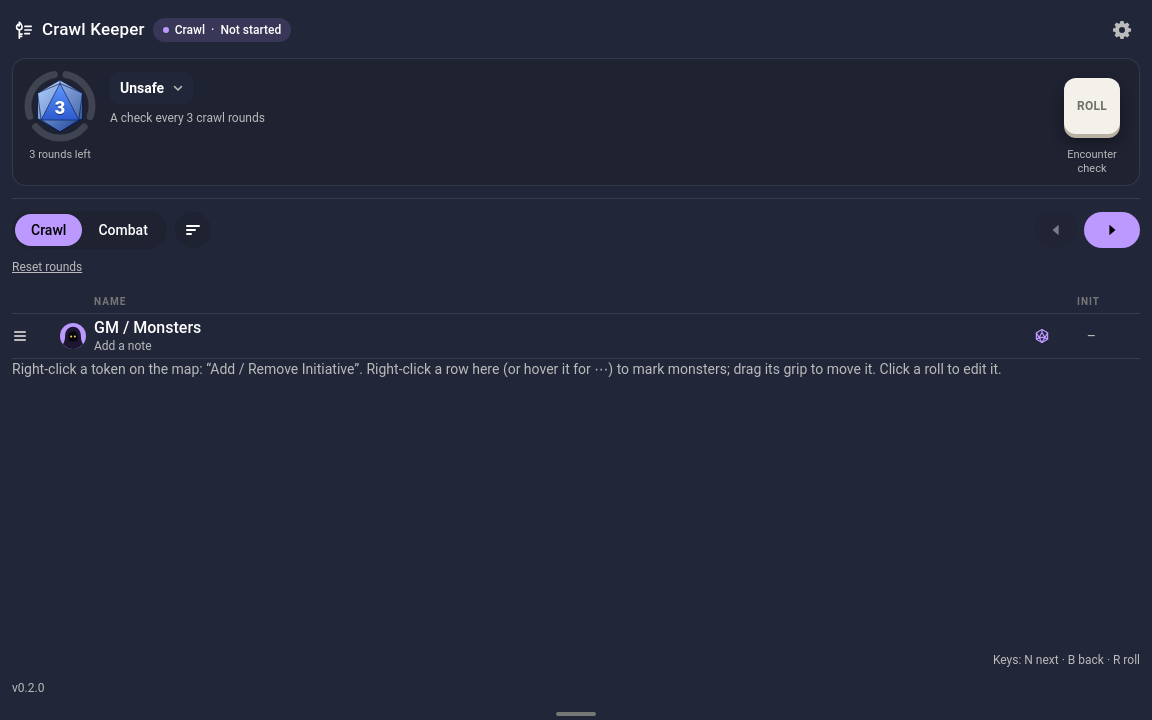
Test: Tracker (GM) › the modifier box shows what's stored, even when nothing changed
Click the button named "Roll initiative for GM / Monsters" at (1042, 336), box left=1028, top=322, right=1056, bottom=350
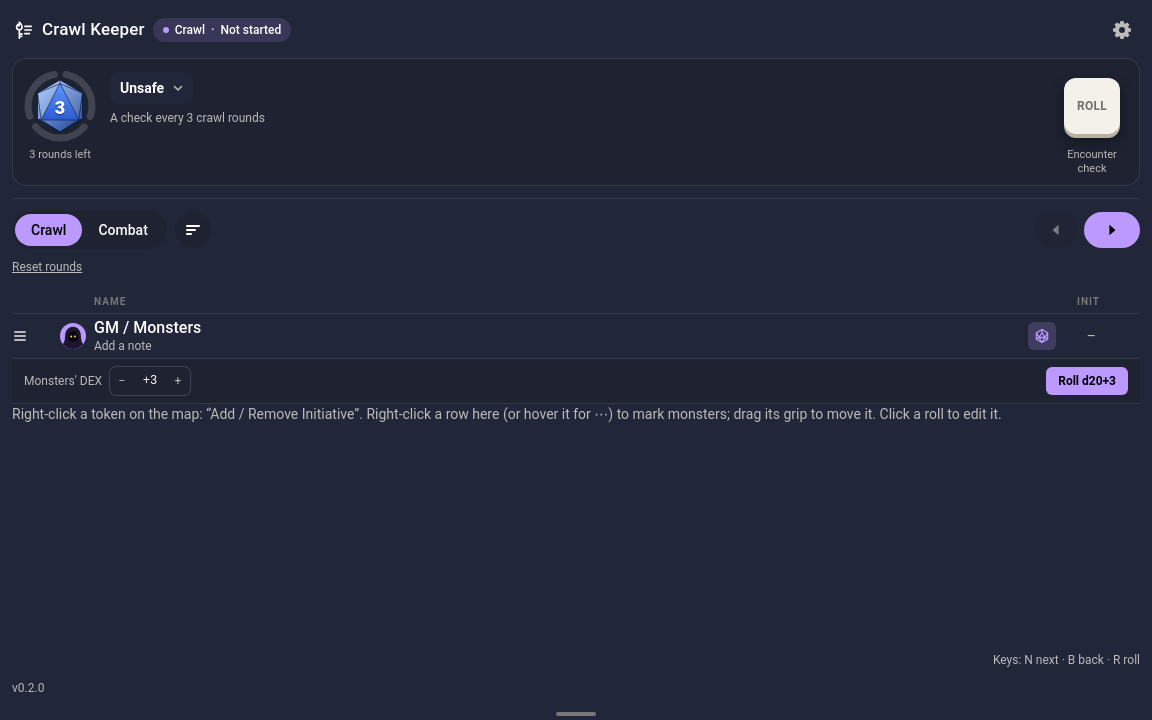
Expected: the field named "Monster DEX modifier" holds "+3"
Replace the text in the field named "Monster DEX modifier" with "3" at (150, 380), box left=134, top=366, right=166, bottom=394
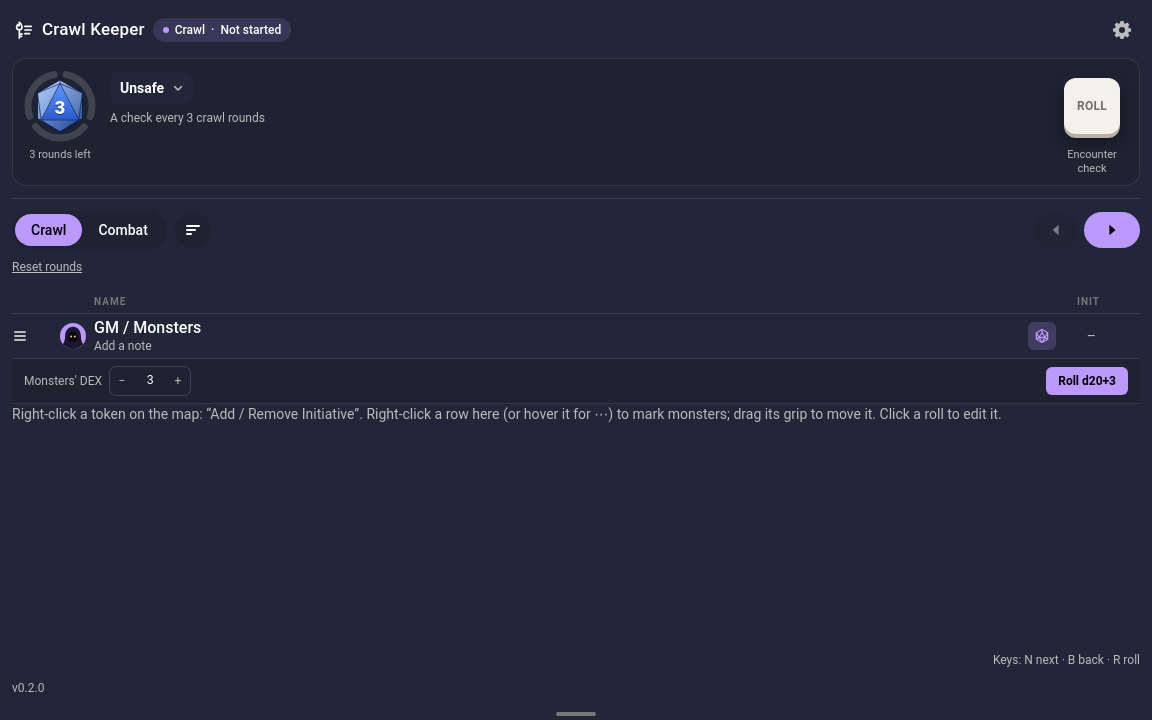
Leave the field named "Monster DEX modifier", box left=134, top=366, right=166, bottom=394
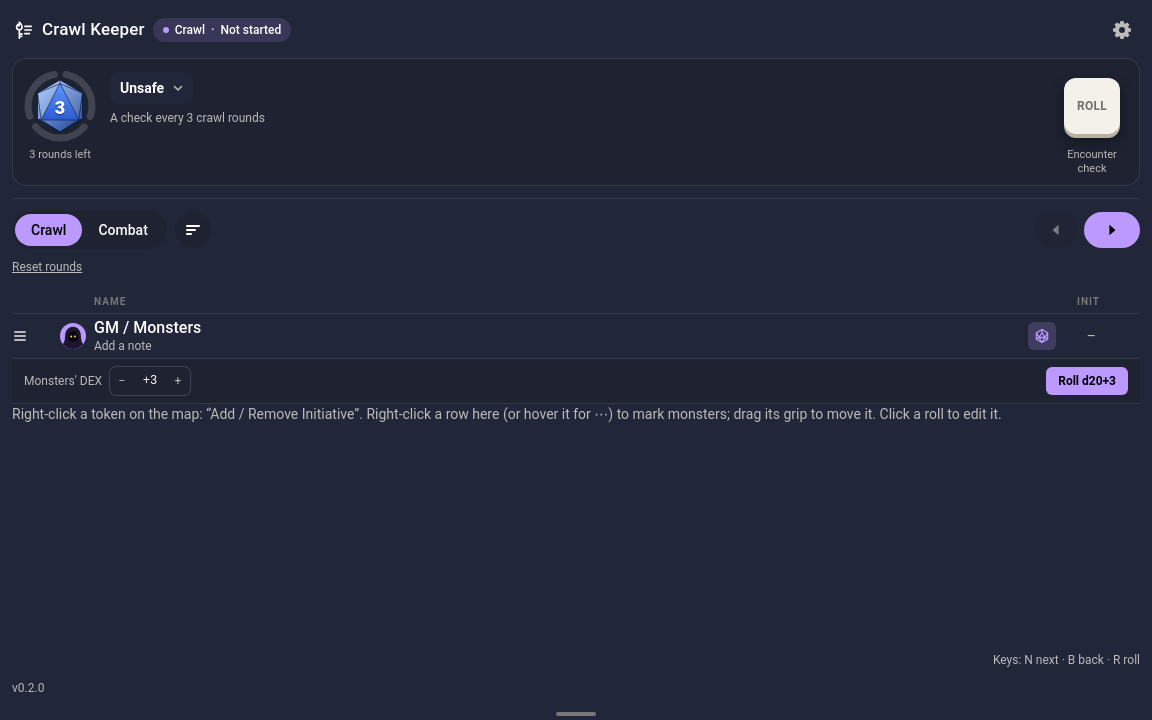
Expected: the field named "Monster DEX modifier" holds "+3", left=134, top=366, right=166, bottom=394
